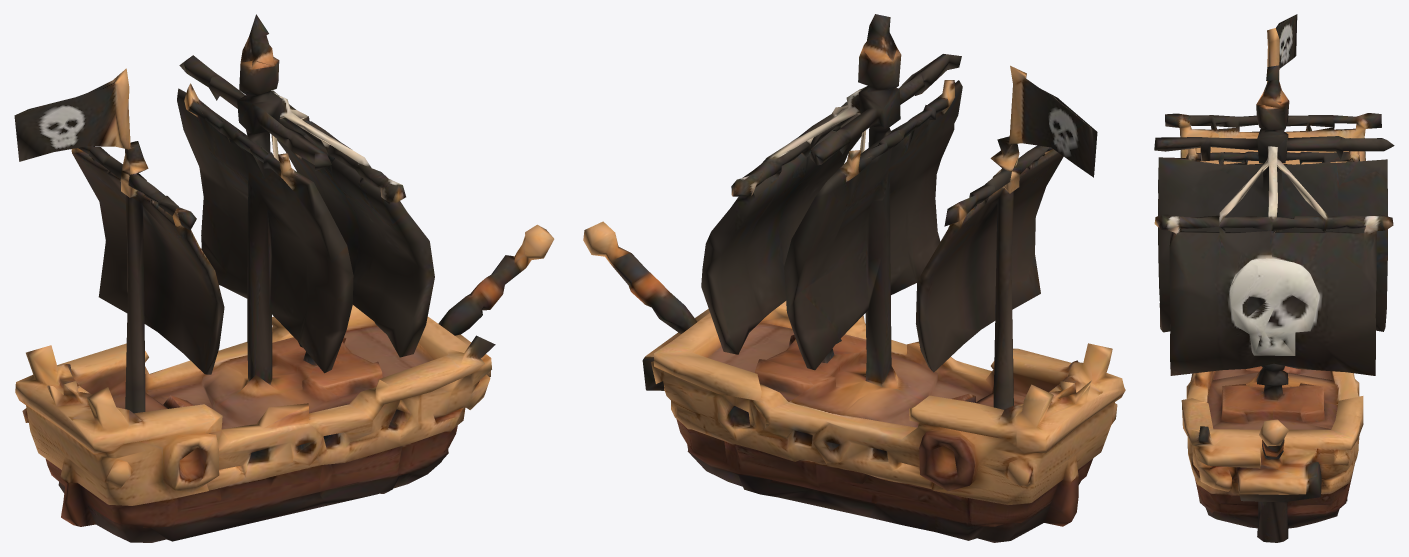
Rendered from pirate-ship.glb.
3 views of the same model, side by side, from view 1: azimuth 30°, elevation 25°; view 2: azimuth 150°, elevation 25°; view 3: azimuth 270°, elevation 25° (orthographic). The views are drawn at different scales.
Parts seen in each view (by area): view 1: tripo_node_a73a9a95-2fb7-444f-9198-6c94d117cda3; view 2: tripo_node_a73a9a95-2fb7-444f-9198-6c94d117cda3; view 3: tripo_node_a73a9a95-2fb7-444f-9198-6c94d117cda3.
Boxes of the visible parts, x1,y1,x2,y2 form: tripo_node_a73a9a95-2fb7-444f-9198-6c94d117cda3: (14,14,554,542); tripo_node_a73a9a95-2fb7-444f-9198-6c94d117cda3: (583,14,1125,542); tripo_node_a73a9a95-2fb7-444f-9198-6c94d117cda3: (1154,14,1394,542).
Bounding box in the file's own units: 1 × 0.867 × 0.4645.
Materials: 1 (1 with a texture image).
